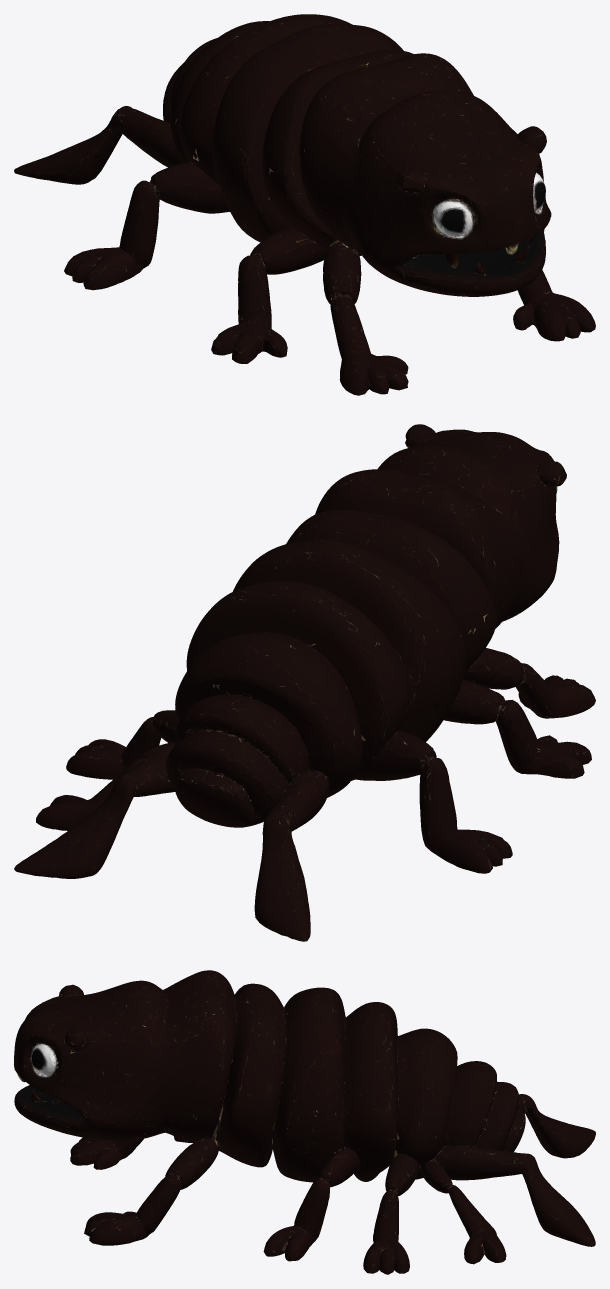
Rendered from basin-15-s3p00-n00-non-tetrapod-crawler-clay-normal-seed717032.glb.
3 views of the same model, one above another, from view 1: azimuth 30°, elevation 25°; view 2: azimuth 150°, elevation 25°; view 3: azimuth 270°, elevation 25° (orthographic). The views are drawn at different scales.
Visible parts, largest first — view 1: world; view 2: world; view 3: world.
Part boxes in pixels (bbox=[...]): world: bbox=[14, 14, 595, 395]; world: bbox=[14, 424, 595, 941]; world: bbox=[14, 970, 595, 1274].
Size of the model in its own units: 0.6831 by 0.3918 by 0.9993.
1 material, 1 textured.
